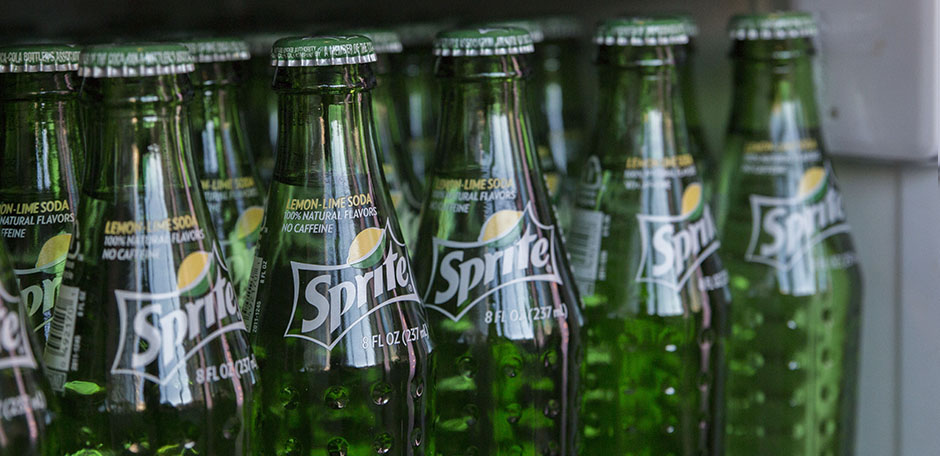sprite: (130, 264, 236, 369), (301, 240, 408, 332), (435, 220, 549, 305), (764, 188, 844, 257), (653, 203, 713, 275)
